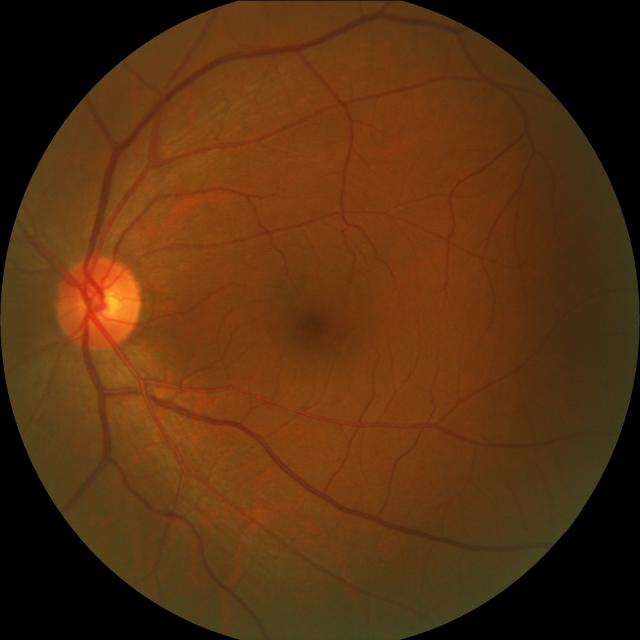OC: (82, 284, 123, 326)
OD: (54, 255, 140, 348)
